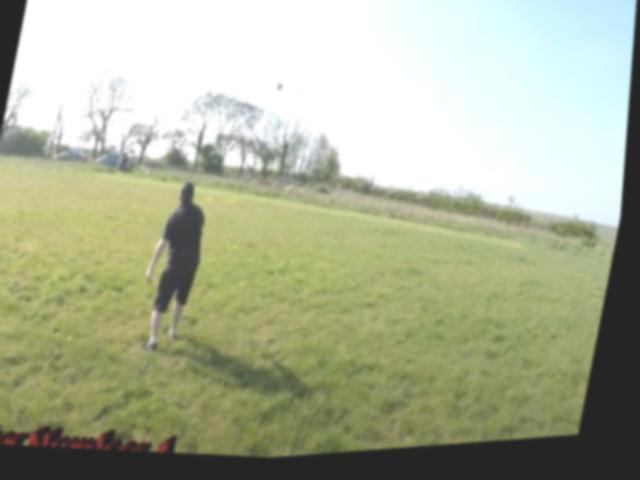iha: (257, 78, 307, 101)
